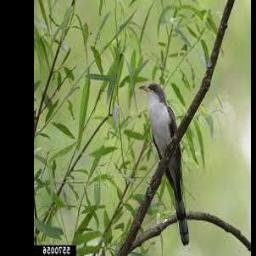Cuckoo: (140, 83, 190, 246)
